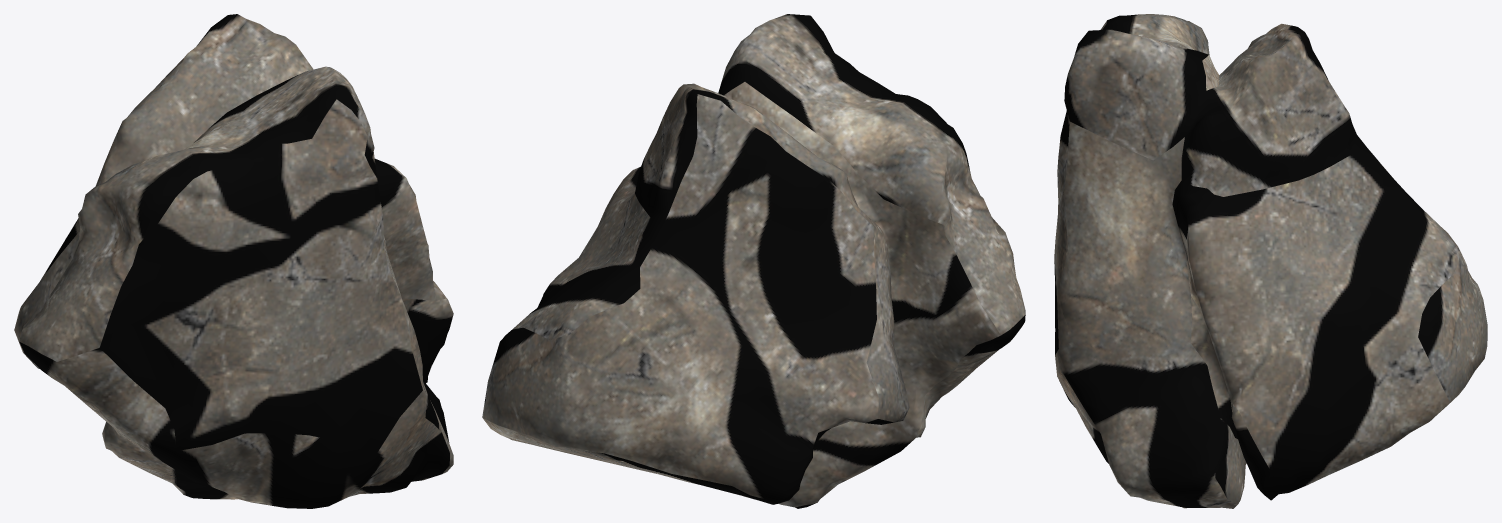
File: rock8.glb
3 renders of one model, left to right at view 1: azimuth 30°, elevation 25°; view 2: azimuth 150°, elevation 25°; view 3: azimuth 270°, elevation 25°, orthographic. The views are drawn at different scales.
Visible parts, largest first — view 1: Rock8; view 2: Rock8; view 3: Rock8.
Part boxes in pixels (x1,y1,x2,y2): Rock8: (14, 14, 453, 508); Rock8: (482, 14, 1025, 508); Rock8: (1054, 14, 1487, 508).
Size of the model in its own units: 4.95 by 4.62 by 4.24.
1 material, 1 textured.
